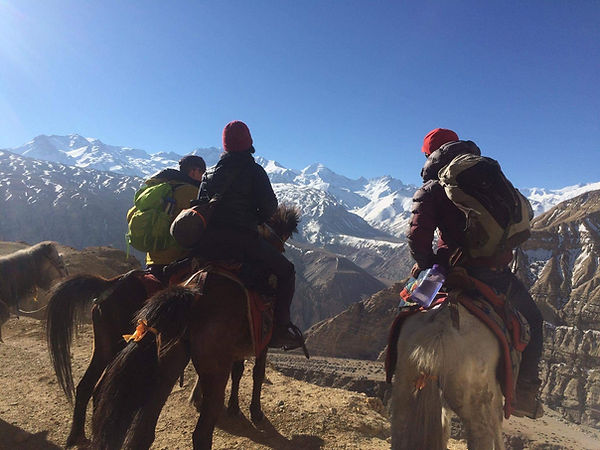human: (401, 116, 576, 428), (188, 110, 323, 357), (126, 143, 240, 296)
